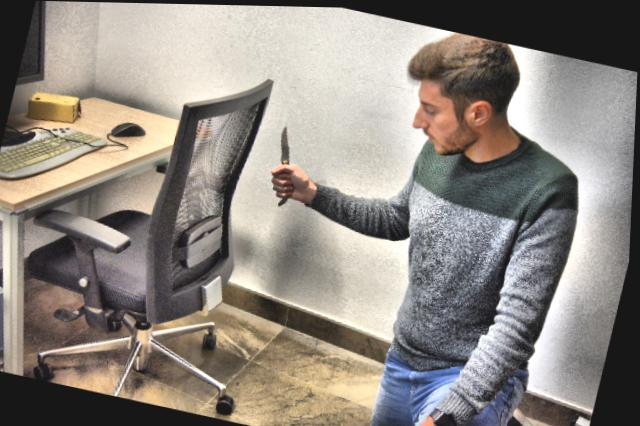knife: (262, 122, 311, 209)
